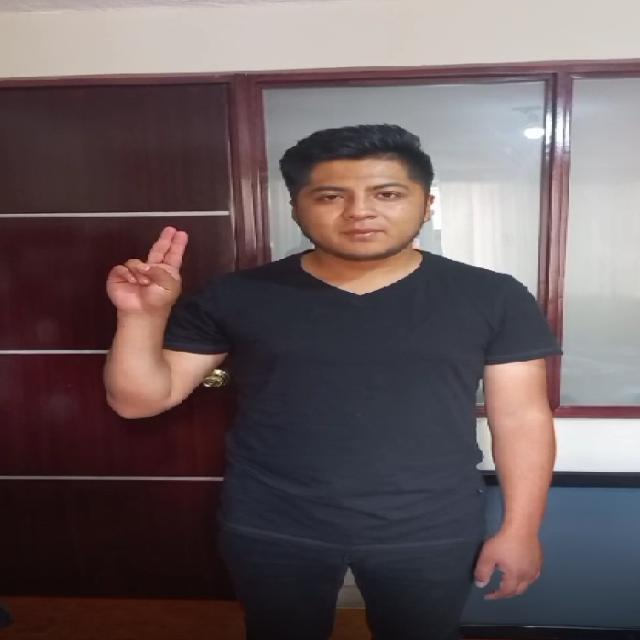U: (61, 204, 222, 327)
